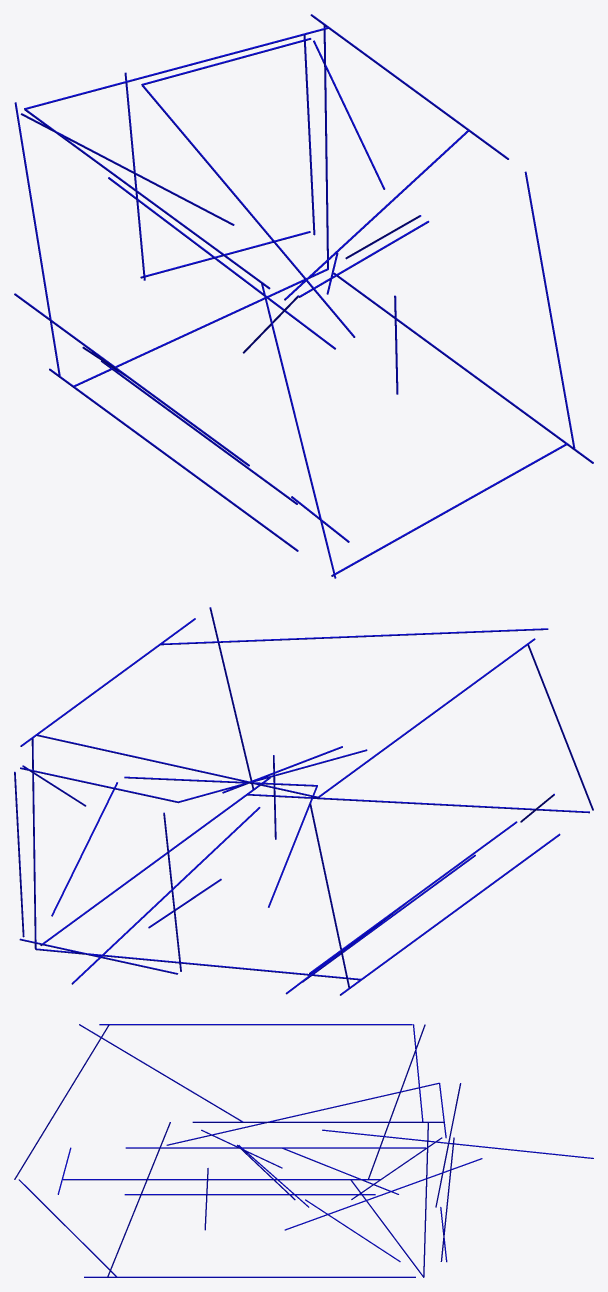
Rendered from corrected_3d_strokes.glb.
The picture shows the model from 3 angles, top to bottom: view 1: azimuth 30°, elevation 25°; view 2: azimuth 150°, elevation 25°; view 3: azimuth 270°, elevation 25°; orthographic projection. The views are drawn at different scales.
Visible parts, largest first — view 1: world; view 2: world; view 3: world.
Boxes of the visible parts, left/top/right/bottom form: world: left=14, top=14, right=593, bottom=578; world: left=14, top=607, right=593, bottom=995; world: left=14, top=1024, right=593, bottom=1277.
Size of the model in its own units: 6.87 by 5.11 by 17.18.
